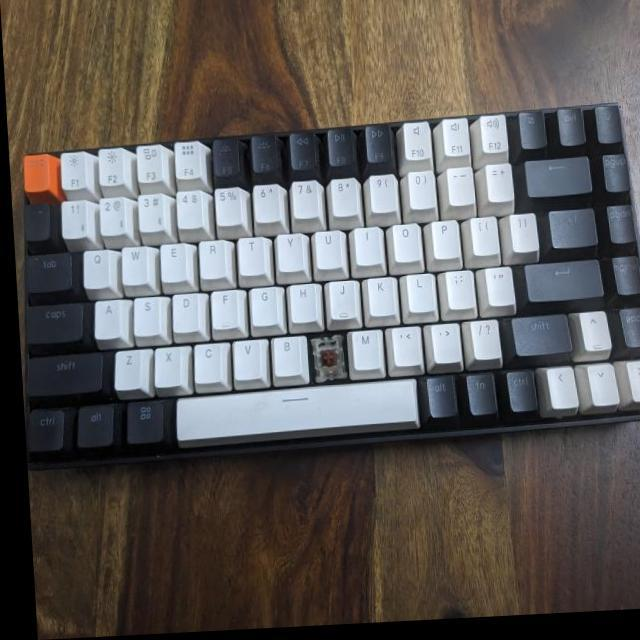key-switch: (305, 338, 343, 388)
